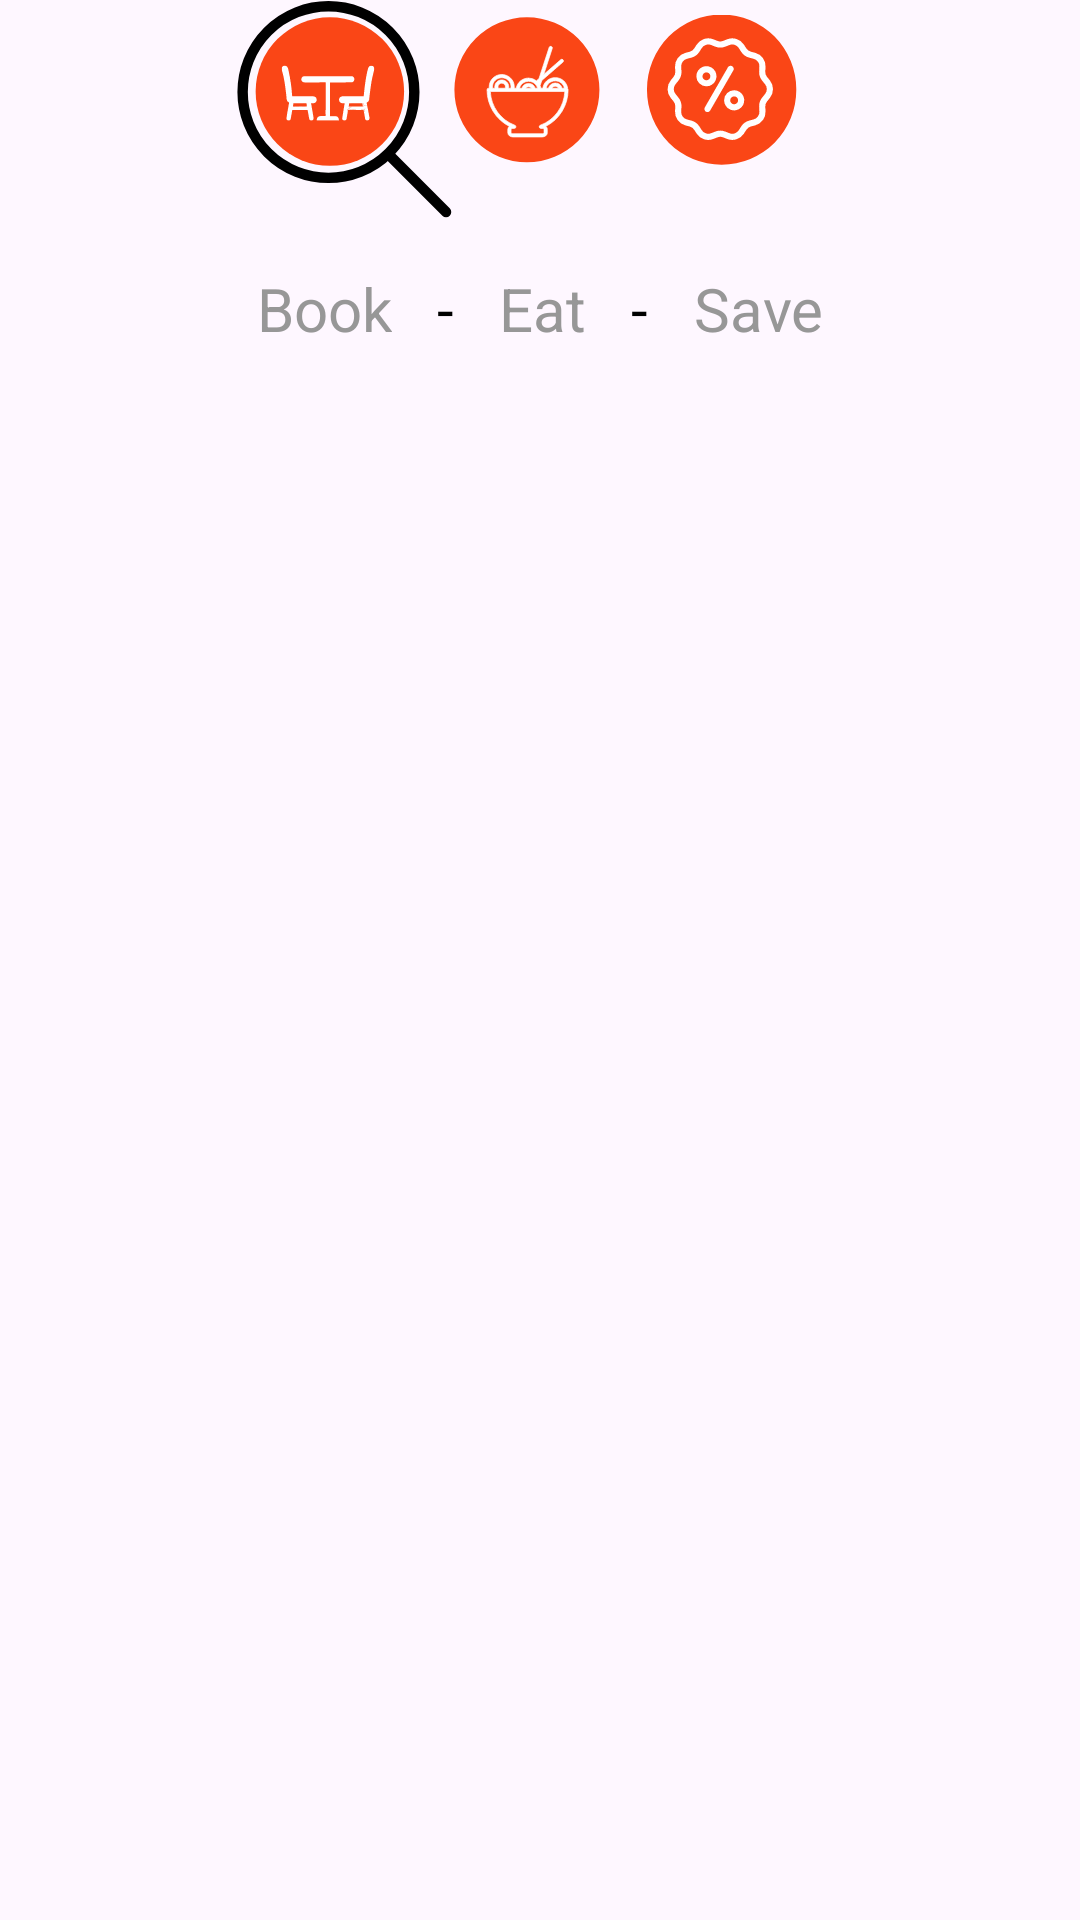

Named icons in this screenshot (1080 x 1920) and their centers, (x=x, y=y):
launch deal: (x=722, y=90)
launch food: (x=527, y=90)
